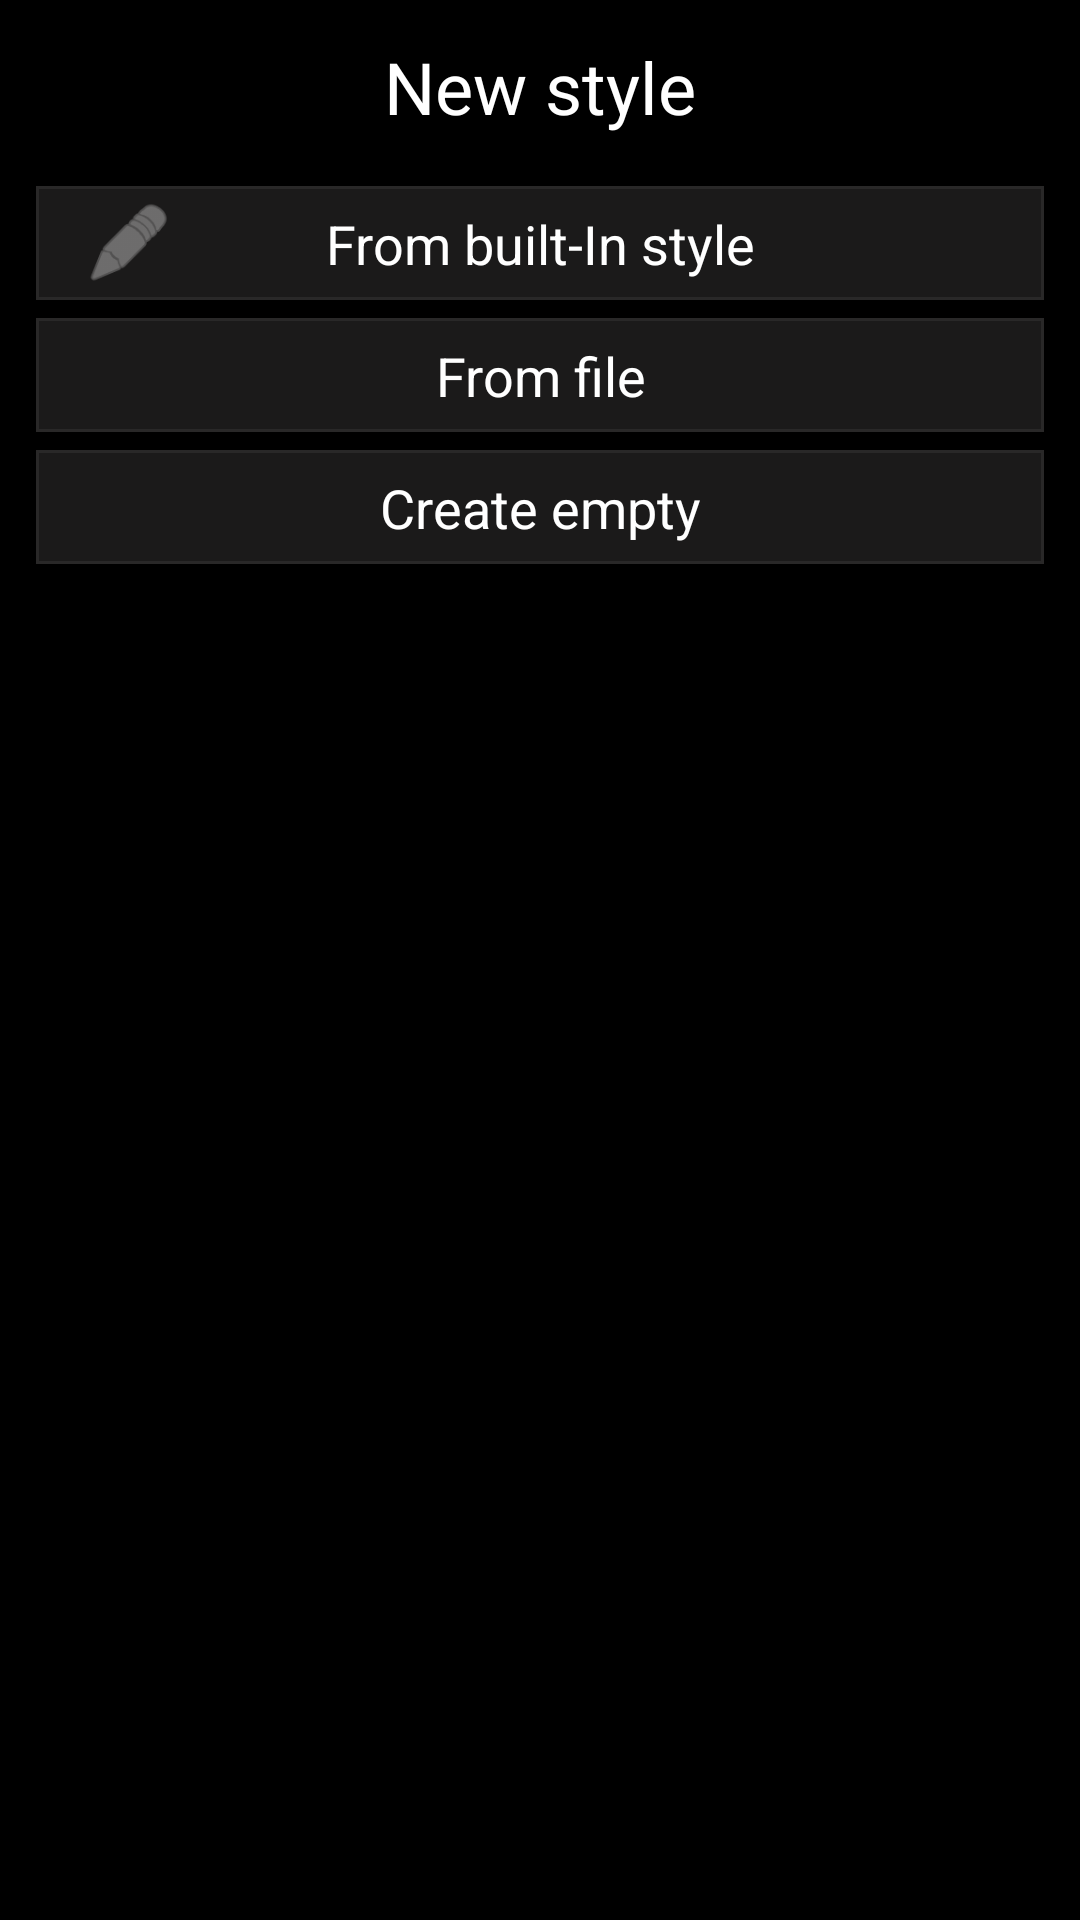

Icons on this 1080*1920 Android screen, each with its box as (x1, y1, x2, y2):
edit: (91, 204, 167, 280)
